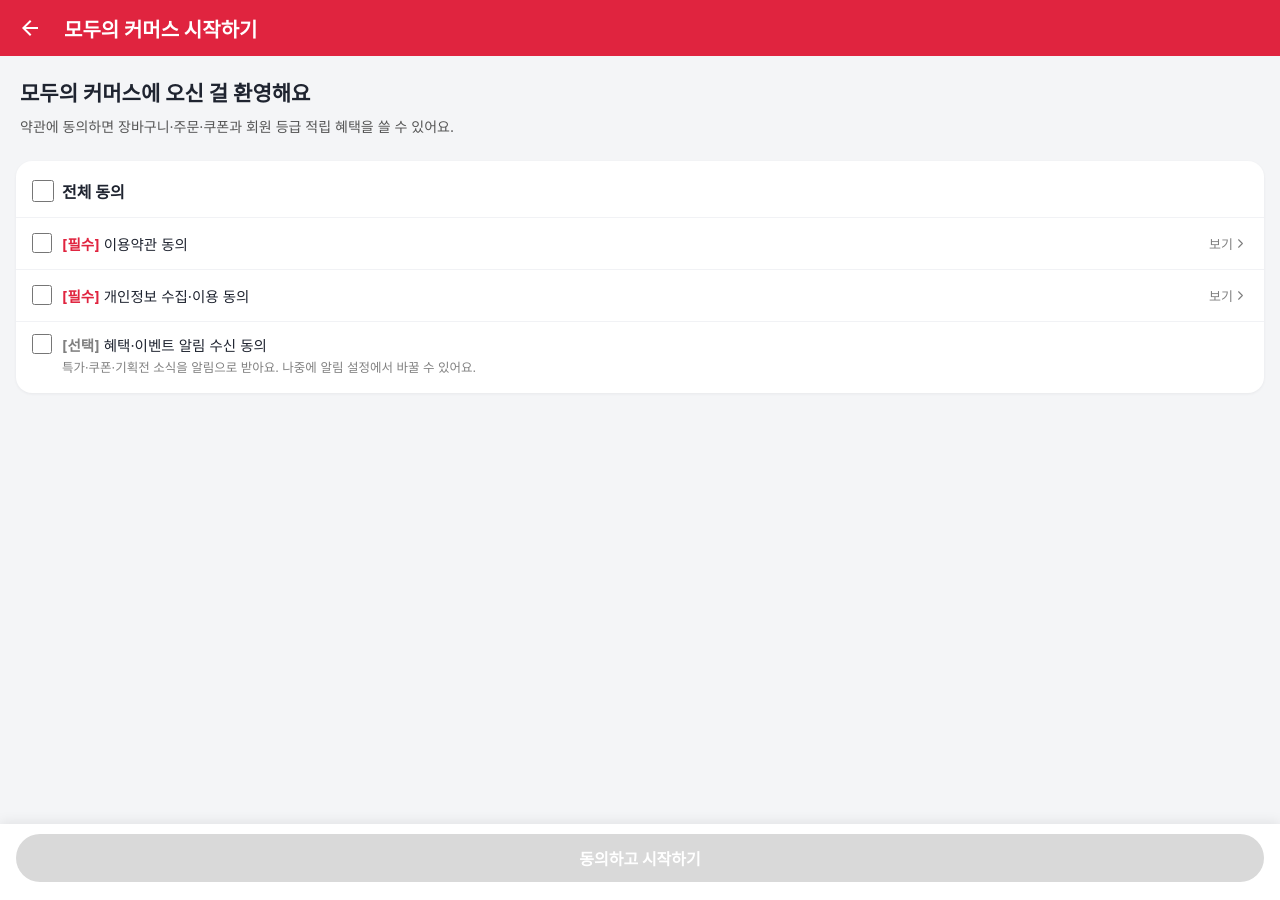
Test: WelcomePage › keeps the start button disabled until both required agreements are checked
Expected: the heading "모두의 커머스에 오신 걸 환영해요" is shown, [20,81,310,106]
Expected: the button "동의하고 시작하기" is disabled, [16,834,1264,882]
Click the checkbox named "이용약관 동의 (필수)": (42,243) [32,233,52,253]
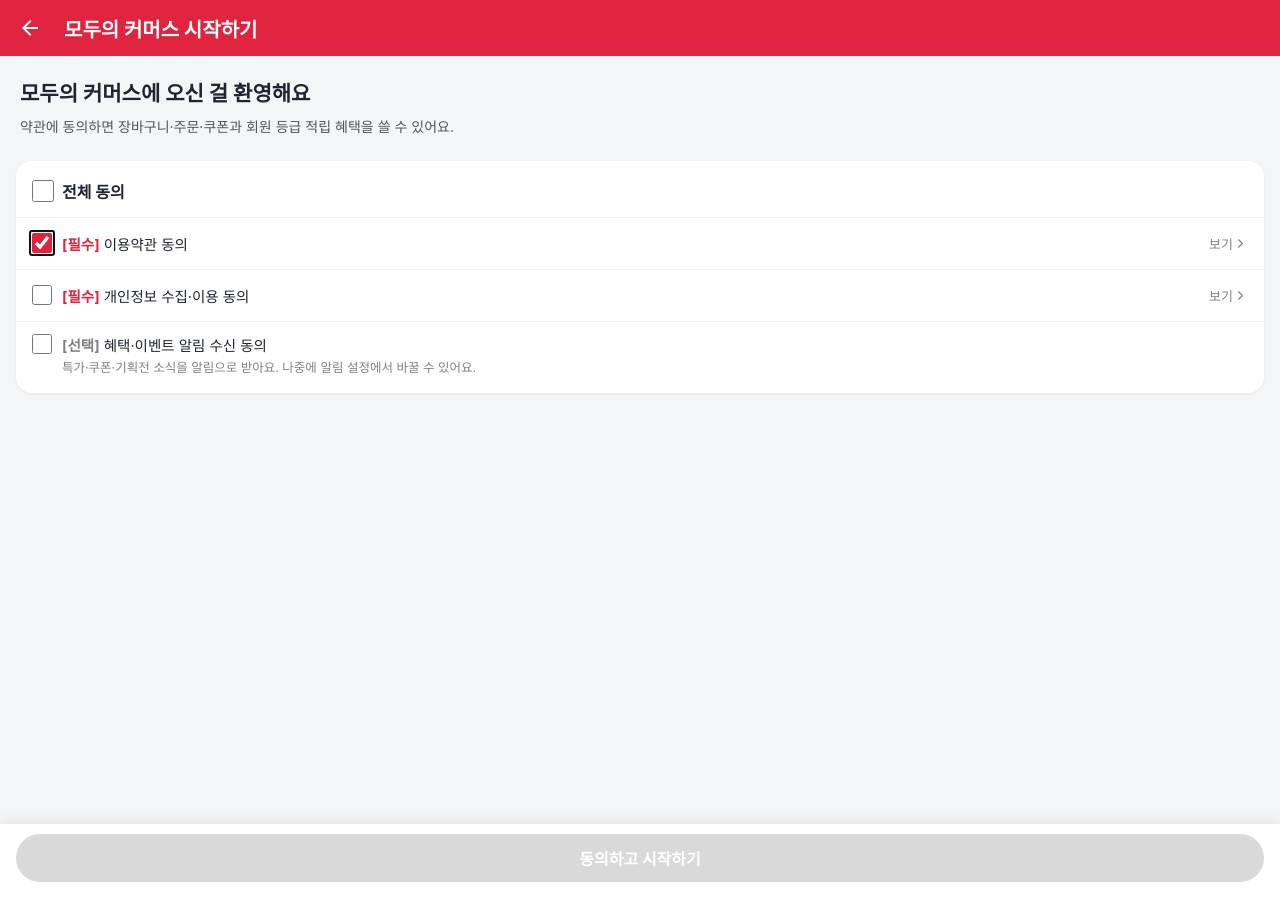
Expected: the button "동의하고 시작하기" is disabled, [16,834,1264,882]
Click the checkbox named "혜택·이벤트 알림 수신 동의 (선택)": (42,344) [32,334,52,354]
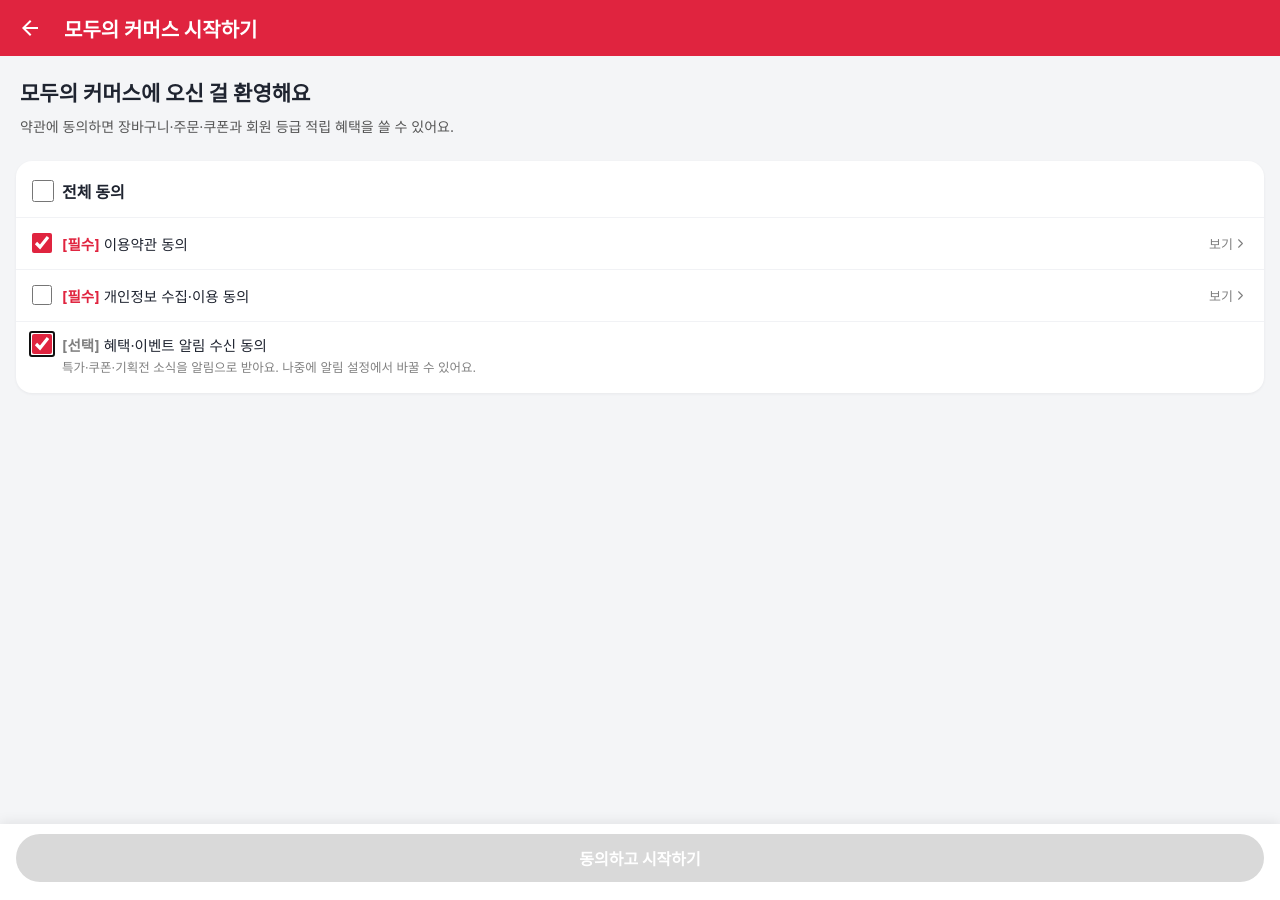
Expected: the button "동의하고 시작하기" is disabled, [16,834,1264,882]
Click the checkbox named "개인정보 수집·이용 동의 (필수)": (42,295) [32,285,52,305]
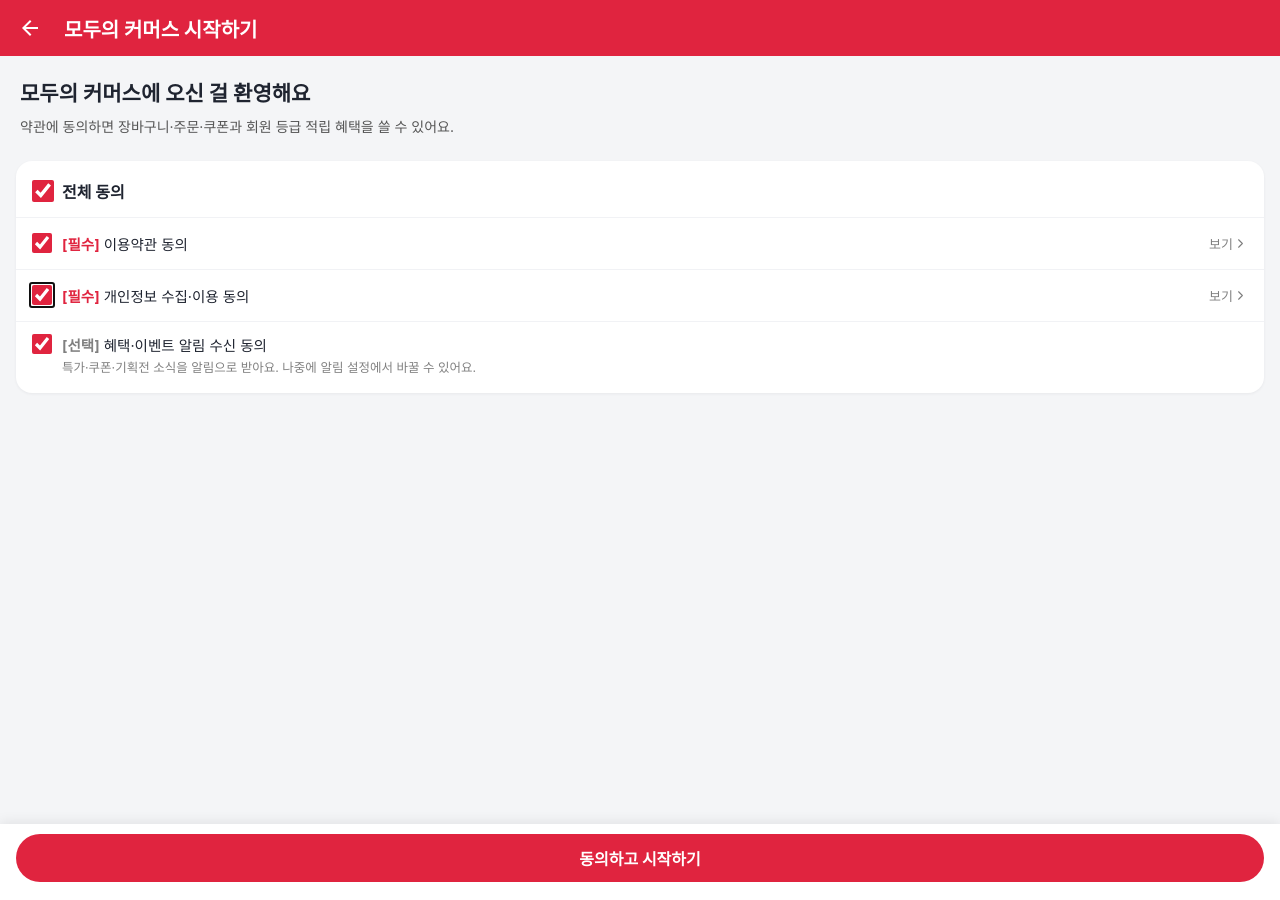
Expected: the button "동의하고 시작하기" is enabled, [16,834,1264,882]
Click the checkbox named "이용약관 동의 (필수)": (42,243) [32,233,52,253]
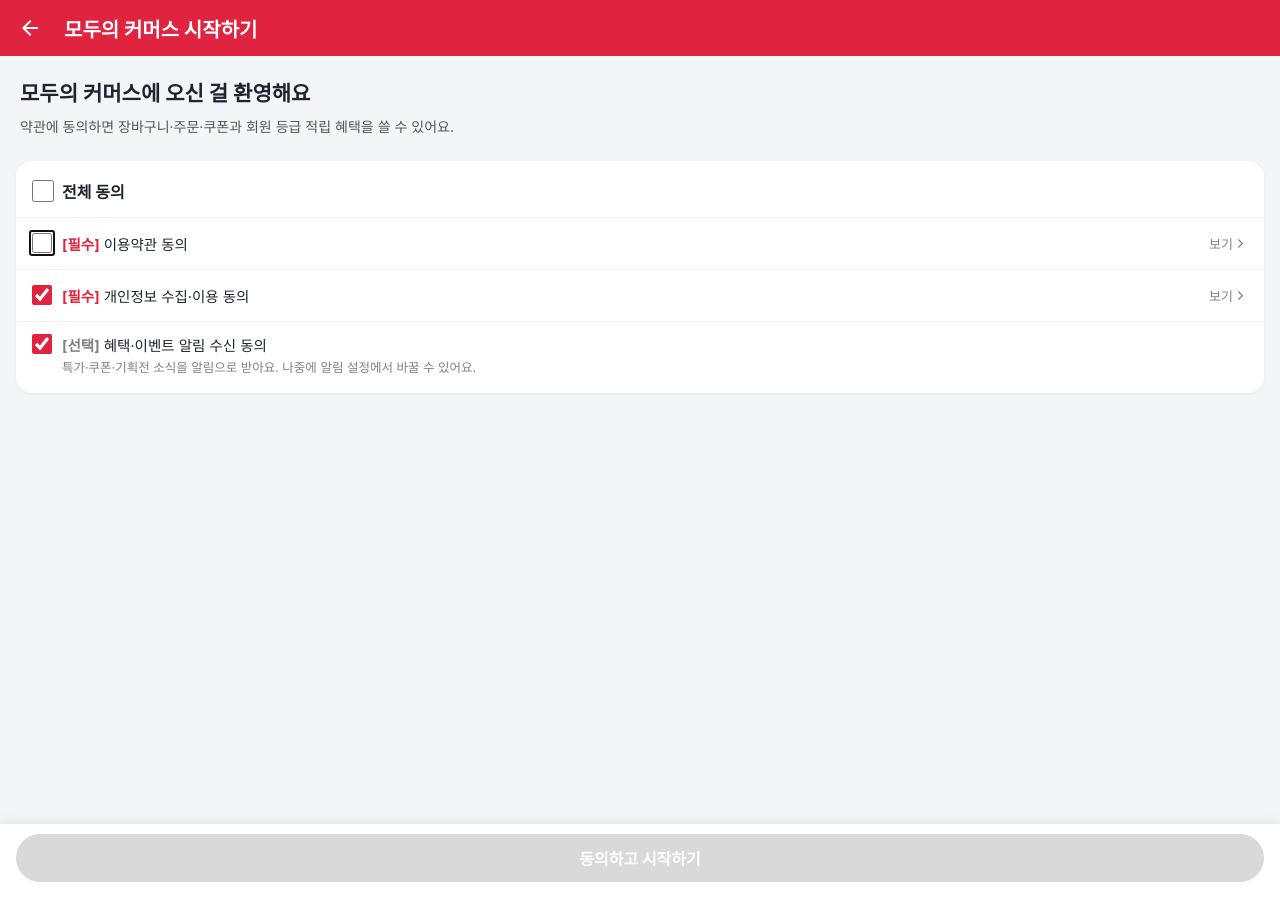
Expected: the button "동의하고 시작하기" is disabled, [16,834,1264,882]
